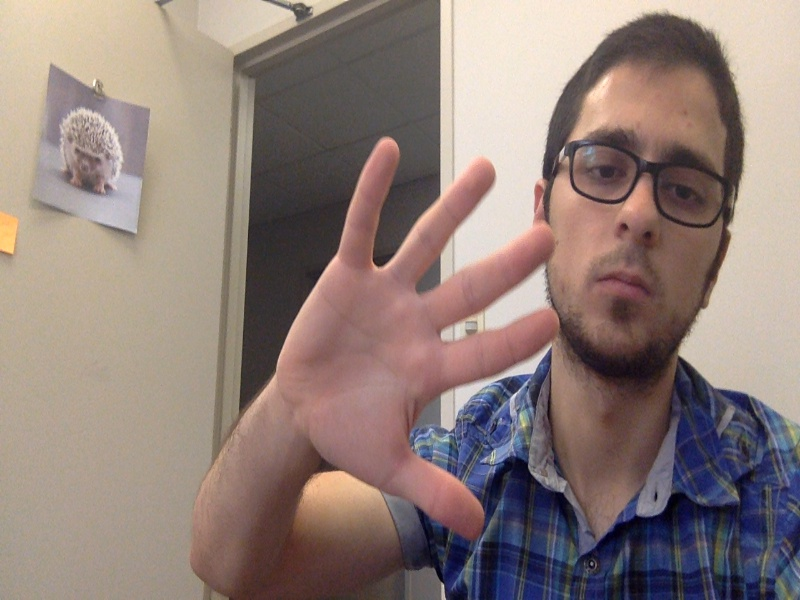5-hand: (271, 134, 566, 545)
